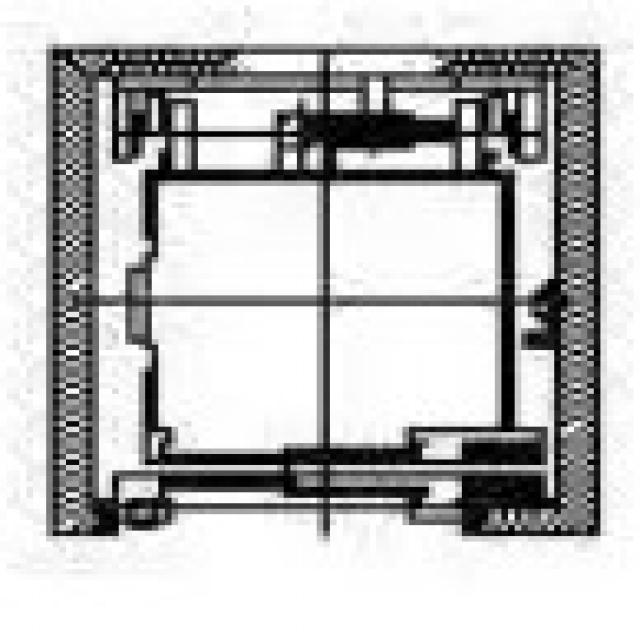lift: (39, 38, 594, 536)
